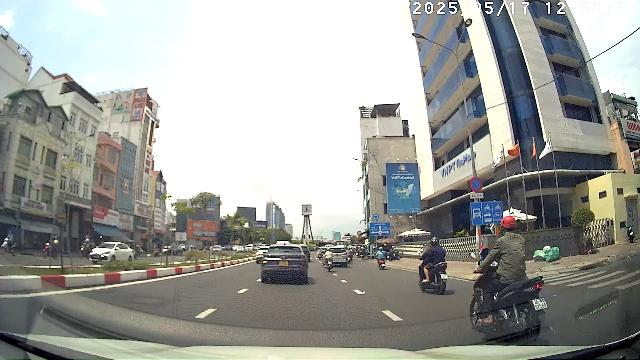131a-cam-do-xe: (469, 177, 483, 192)
303-noi-giao-nhau-chay-theo-vong-xuyen: (372, 214, 379, 220)
